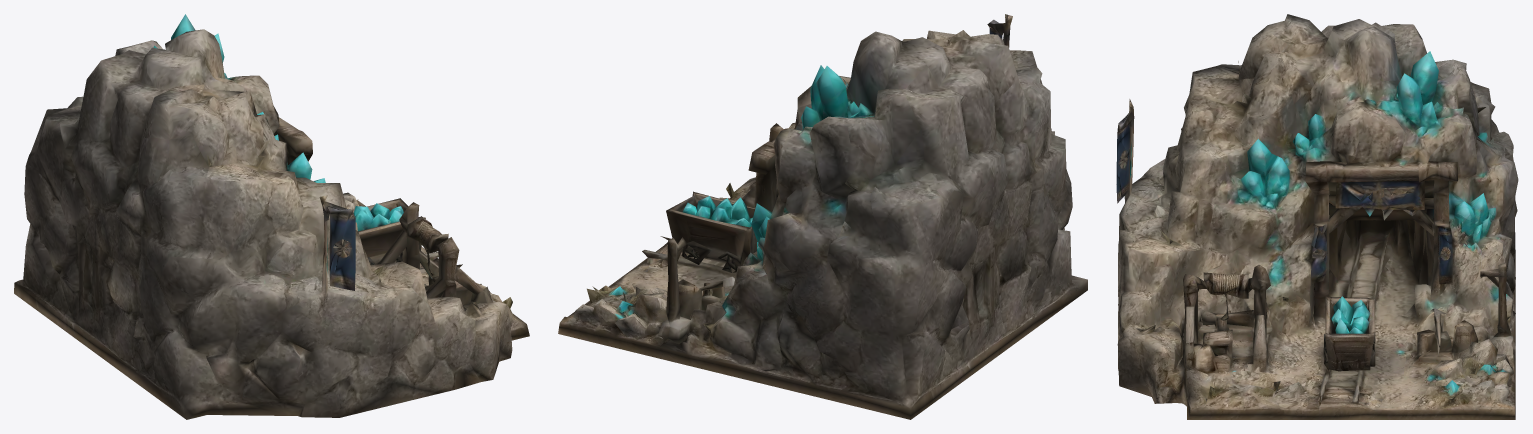
Rendered from gem_mine_turquoise.glb.
3 views of the same model, side by side, from view 1: azimuth 30°, elevation 25°; view 2: azimuth 150°, elevation 25°; view 3: azimuth 270°, elevation 25° (orthographic). The views are drawn at different scales.
Visible parts, largest first — view 1: tripo_node_faddf922-37aa-48cc-98d4-682e1b974547; view 2: tripo_node_faddf922-37aa-48cc-98d4-682e1b974547; view 3: tripo_node_faddf922-37aa-48cc-98d4-682e1b974547.
Part boxes in pixels (x1,y1,x2,y2): tripo_node_faddf922-37aa-48cc-98d4-682e1b974547: [14, 14, 529, 419]; tripo_node_faddf922-37aa-48cc-98d4-682e1b974547: [558, 14, 1087, 419]; tripo_node_faddf922-37aa-48cc-98d4-682e1b974547: [1116, 14, 1518, 419].
Size of the model in its own units: 0.9267 by 0.7515 by 0.975.
Materials: 1 (1 with a texture image).
